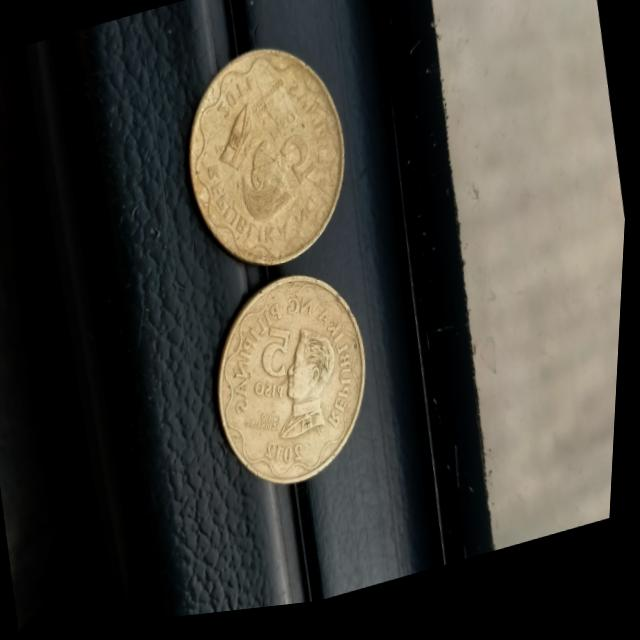5_Old_Front: (241, 324, 315, 423), (260, 109, 332, 198)
